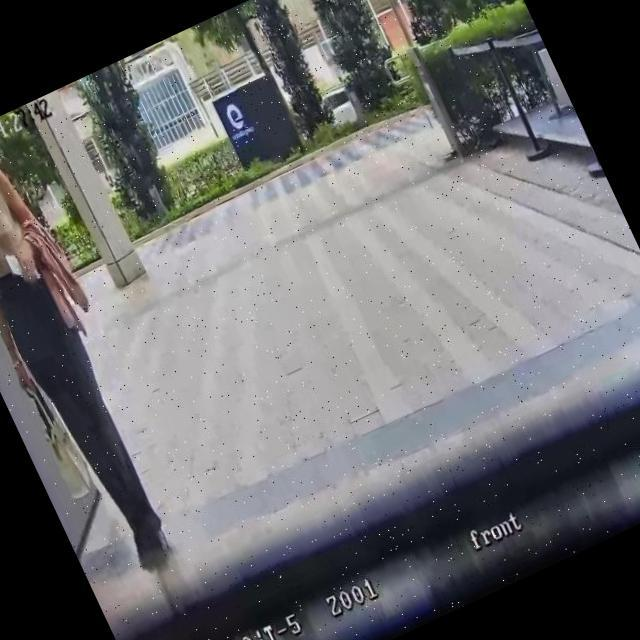person: (0, 115, 205, 592)
